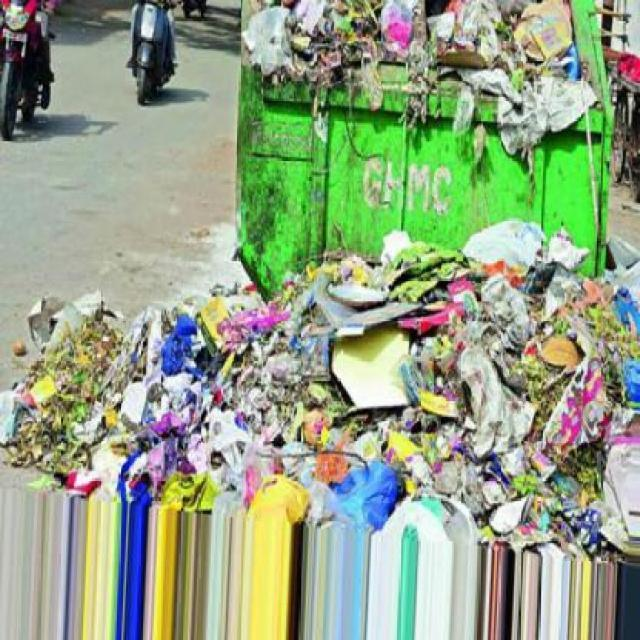garbage: (0, 213, 638, 569), (237, 2, 640, 200)
